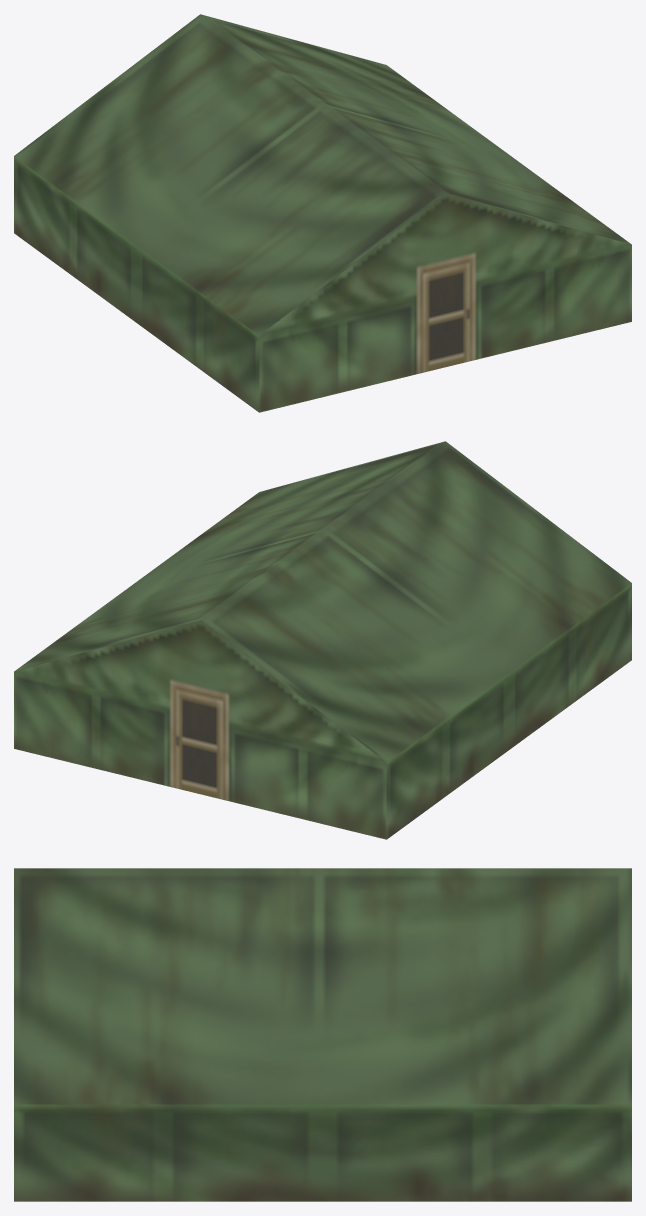
File: tent.glb
3 views of the same model, one above another, from view 1: azimuth 30°, elevation 25°; view 2: azimuth 150°, elevation 25°; view 3: azimuth 270°, elevation 25° (orthographic). The views are drawn at different scales.
Visible parts, largest first — view 1: Tent1; view 2: Tent1; view 3: Tent1.
Boxes of the visible parts, x1=… form: Tent1: x1=14, y1=14, x2=631, y2=412; Tent1: x1=14, y1=441, x2=631, y2=839; Tent1: x1=14, y1=868, x2=631, y2=1201.
Bounding box in the file's own units: 7.11 × 3.16 × 8.11.
1 material, 1 textured.
